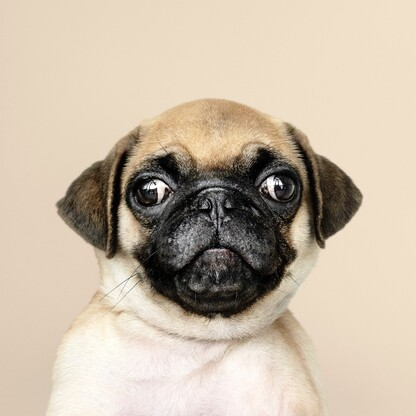Pug: (37, 89, 370, 416)
